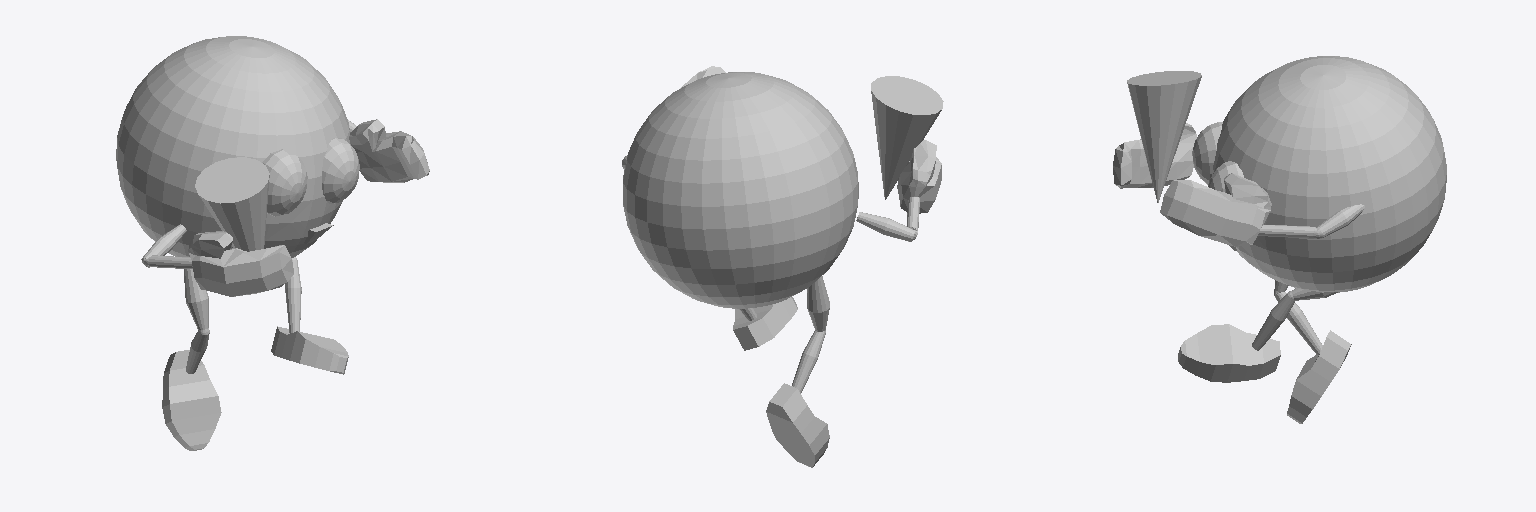
File: jump_000006.obj
3 renders of one model, left to right at view 1: azimuth 30°, elevation 25°; view 2: azimuth 150°, elevation 25°; view 3: azimuth 270°, elevation 25°, orthographic.
Visible parts, largest first — view 1: Rusko_Sphere; view 2: Rusko_Sphere; view 3: Rusko_Sphere.
Boxes of the visible parts, box(x1,y1,x2,y2) form: Rusko_Sphere: box(116, 36, 429, 450); Rusko_Sphere: box(622, 66, 943, 467); Rusko_Sphere: box(1113, 56, 1446, 423).
Size of the model in its own units: 5.1 by 7.08 by 5.64.